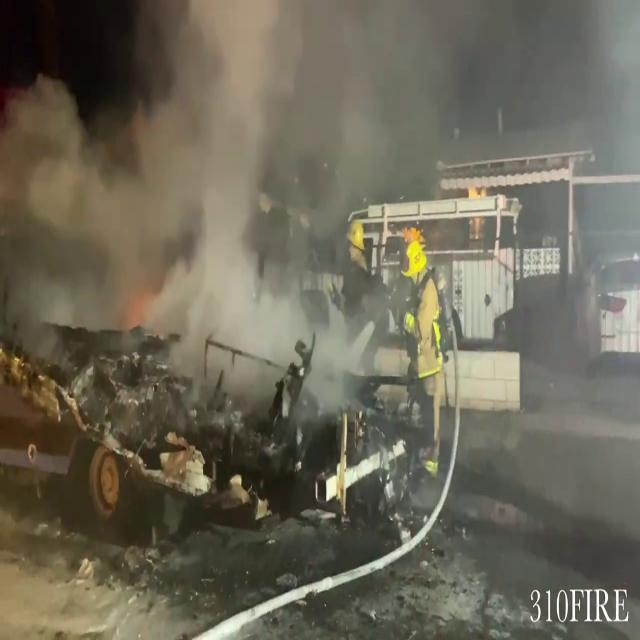Smoke: (1, 0, 640, 393)
